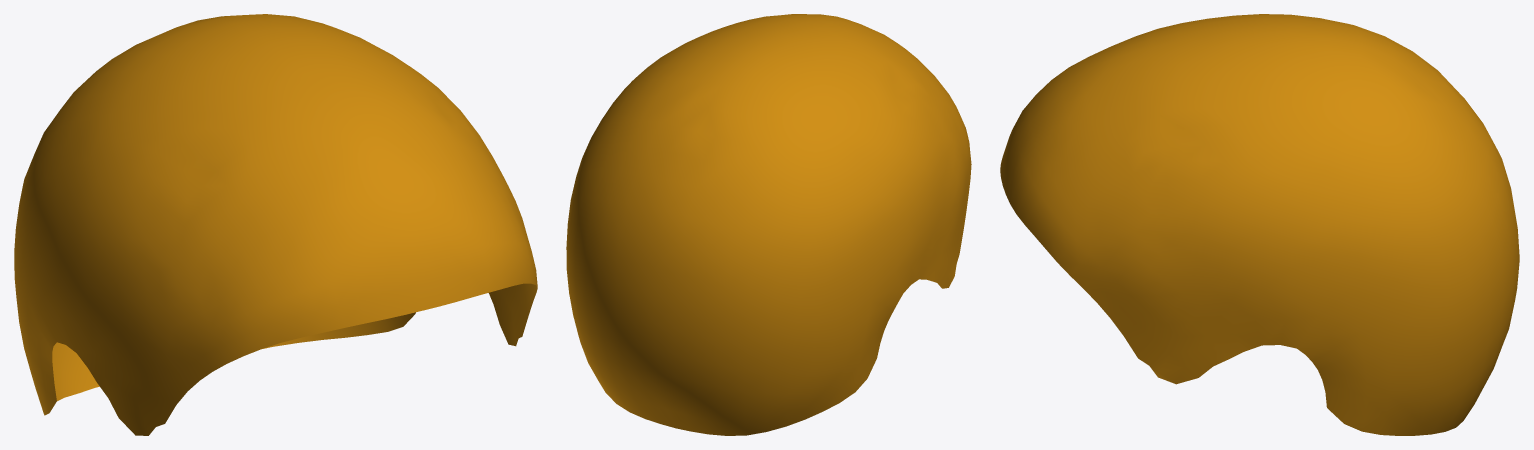
The model's file is Lysina_FullHead.dae.
The picture shows the model from 3 angles, left to right: view 1: azimuth 30°, elevation 25°; view 2: azimuth 150°, elevation 25°; view 3: azimuth 270°, elevation 25°; orthographic projection. The views are drawn at different scales.
Parts seen in each view (by area): view 1: furiosa-006; view 2: furiosa-006; view 3: furiosa-006.
Part boxes in pixels (bbox=[...]): furiosa-006: bbox=[14, 14, 537, 435]; furiosa-006: bbox=[566, 14, 971, 435]; furiosa-006: bbox=[1000, 14, 1519, 435].
Bounding box in the file's own units: 14.08 × 13.88 × 17.95.
